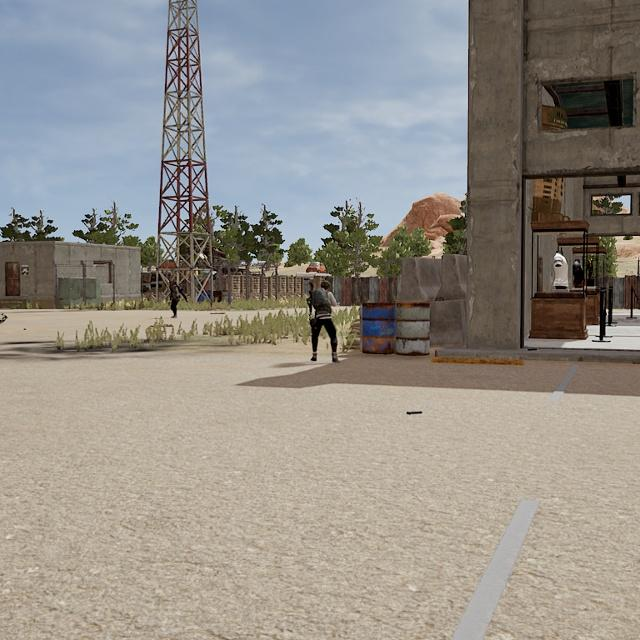head: (320, 279, 332, 293), (168, 280, 175, 287)
people: (306, 279, 341, 364), (168, 279, 182, 320)
